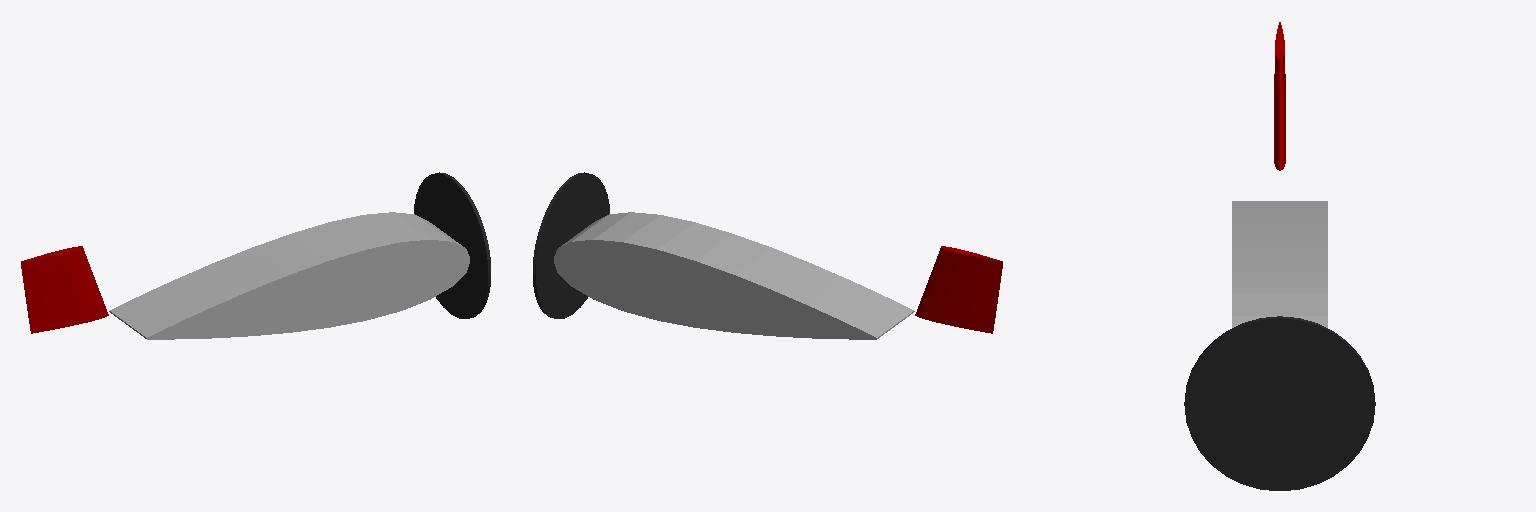
The robot description file, URDF, robot "drone_param":
<?xml version='1.0' encoding='utf-8'?>
<robot name="drone_param">
  <material name="grey">
    <color rgba="0.7 0.7 0.7 1" />
    </material>
  <material name="red">
    <color rgba="0.7 0 0 1" />
    </material>
  <material name="black">
    <color rgba="0.2 0.2 0.2 1" />
    </material>
  <link name="root_link">
    <inertial>
      <origin xyz="0 0 0" rpy="0 0 0" />
      <mass value="0" />
      <inertia ixx="0" ixy="0" ixz="0" iyy="0" iyz="0" izz="0" />
      </inertial>
    </link>
  <link name="fuselage">
    <inertial>
      <origin xyz="-0.25 0 -0.04" rpy="0 0 0" />
      <mass value="0.404768" />
      <inertia ixx="0.0014921" ixy="0" ixz="0" iyy="0.00167448" iyz="0" izz="0.000422383" />
      </inertial>
    <collision name="fuselage_collision_0">
      <origin xyz="-0.25 0 0.00245565348607" rpy="-1.5898372930676048 6.123233995736766e-17 -1.5707963267948968" />
      <geometry>
        <box size="0.025 0.0261920094864 0.125" />
        </geometry>
      </collision>
    <visual name="fuselage_visual_0">
      <origin xyz="0 0 0" rpy="0 0 0" />
      <geometry>
        <mesh filename="package://meshes/fuselage_only.stl" scale="0.000666768 0.001 0.001" />
        </geometry>
      <material name="grey" />
      </visual>
    </link>
  <joint name="fixed_joint_base_fuselage" type="fixed">
    <parent link="root_link" />
    <child link="fuselage" />
    <origin xyz="0 0 0" rpy="3.141592653589793 0 0" />
    </joint>
  <joint name="fixed_joint_aero_frame_fuselage" type="fixed">
    <parent link="fuselage" />
    <child link="aero_frame_fuselage" />
    <origin xyz="-0.25 0 -0.03" rpy="0 3.141592653589793 0" />
    </joint>
  <link name="aero_frame_fuselage">
    <inertial>
      <origin xyz="0 0 0" rpy="0 0 0" />
      <mass value="0" />
      <inertia ixx="0" ixy="0" ixz="0" iyy="0" iyz="0" izz="0" />
      </inertial>
    </link>
  <joint name="fixed_joint_prop_frame_fuselage_0" type="fixed">
    <parent link="fuselage" />
    <child link="prop_frame_fuselage_0" />
    <origin xyz="0 0 0" rpy="3.141592653589793 -1.5707963267948966 0" />
    </joint>
  <link name="prop_frame_fuselage_0">
    <inertial>
      <origin xyz="0 0 0" rpy="0 0 0" />
      <mass value="0.0314159" />
      <inertia ixx="6.28711e-05" ixy="0" ixz="0" iyy="6.28711e-05" iyz="0" izz="0.000125664" />
      </inertial>
    <visual name="prop_frame_fuselage_0_visual_0">
      <origin xyz="0 0 0" rpy="0 0 0" />
      <geometry>
        <cylinder radius="0.1" length="0.005" />
        </geometry>
      <material name="black" />
      </visual>
    <collision name="prop_frame_collision">
      <origin xyz="0 0 0" rpy="0 0 0" />
      <geometry>
        <box size="0.2 0.2 0.02" />
        </geometry>
      </collision>
    </link>
  <joint name="fixed_joint_right_wing" type="fixed">
    <parent link="fuselage" />
    <child link="fuselage_right_0" />
    <origin xyz="-0.15 0.05 -0.03" rpy="0.174532925199 0 3.141592653589793" />
    </joint>
  <link name="fuselage_right_0">
    <inertial>
      <origin xyz="0 0 0" rpy="0 0 0" />
      <mass value="0.1" />
      <inertia ixx="3.22642e-06" ixy="0" ixz="0" iyy="3.22642e-06" iyz="0" izz="3.22642e-06" />
      </inertial>
    </link>
  <link name="fuselage_right_1">
    <inertial>
      <origin xyz="0 0 0" rpy="0 0 0" />
      <mass value="0.1" />
      <inertia ixx="3.22642e-06" ixy="0" ixz="0" iyy="3.22642e-06" iyz="0" izz="3.22642e-06" />
      </inertial>
    </link>
  <joint name="joint_0_sweep_right_wing" type="revolute">
    <parent link="fuselage_right_0" />
    <child link="fuselage_right_1" />
    <origin xyz="0 0 0" rpy="0 0 0" />
    <axis xyz="0 0 1" />
    <limit lower="-0.35" upper="0.35" effort="2.4" velocity="3.665191429" />
    <dynamics damping="0.2" friction="0.05" />
    </joint>
  <joint name="joint_1_twist_right_wing" type="revolute">
    <parent link="fuselage_right_1" />
    <child link="right_wing" />
    <origin xyz="0 -0.05 0" rpy="0 0 0" />
    <axis xyz="0 1 0" />
    <limit lower="-0.466667" upper="0.466667" effort="0.9" velocity="3.665191429" />
    <dynamics damping="0.2" friction="0.05" />
    </joint>
  <link name="right_wing">
    <inertial>
      <origin xyz="0 0 0" rpy="0 0 0" />
      <mass value="0" />
      <inertia ixx="0" ixy="0" ixz="0" iyy="0" iyz="0" izz="0" />
      </inertial>
    <visual name="right_wing_visual">
      <origin xyz="0 0 0" rpy="0 0 0" />
      <geometry>
        <mesh filename="package://meshes/wing0009.stl" scale="0.2 0.875052 0.2" />
        </geometry>
      <material name="red" />
      </visual>
    </link>
  <joint name="fixed_joint_right_wing_prop" type="fixed">
    <parent link="right_wing" />
    <child link="right_wing_prop" />
    <origin xyz="0 -0.025 0" rpy="0 0 0" />
    </joint>
  <link name="right_wing_prop">
    <inertial>
      <origin xyz="0.0425 0 0" rpy="0 0 0" />
      <mass value="0.00449056" />
      <inertia ixx="1.45943e-05" ixy="0" ixz="0" iyy="6.33762e-07" iyz="0" izz="1.41054e-05" />
      </inertial>
    <collision name="right_wing_prop_collision">
      <origin xyz="0.0625 0 -0.000421042" rpy="1.570796327 -1.558922022 0" />
      <geometry>
        <box size="0.017962225 0.25 0.05" />
        </geometry>
      </collision>
    </link>
  <joint name="fixed_joint_aero_frame_right_wing_prop" type="fixed">
    <parent link="right_wing_prop" />
    <child link="aero_frame_right_wing_prop" />
    <origin xyz="0.0425 0 0" rpy="3.141592654 0 0" />
    </joint>
  <link name="aero_frame_right_wing_prop">
    <inertial>
      <origin xyz="0 0 0" rpy="0 0 0" />
      <mass value="0" />
      <inertia ixx="0" ixy="0" ixz="0" iyy="0" iyz="0" izz="0" />
      </inertial>
    </link>
  <joint name="fixed_joint_right_wing_free" type="fixed">
    <parent link="right_wing" />
    <child link="right_wing_free" />
    <origin xyz="0 -0.275 0" rpy="0 0 0" />
    </joint>
  <link name="right_wing_free">
    <inertial>
      <origin xyz="0.0425 0 0" rpy="0 0 0" />
      <mass value="0.040415" />
      <inertia ixx="0.000535499" ixy="0" ixz="0" iyy="0.000409854" iyz="0" izz="0.000126949" />
      </inertial>
    <collision name="right_wing_free_collision">
      <origin xyz="0.0625 0 -0.000421042" rpy="1.570796327 -1.558922022 0" />
      <geometry>
        <box size="0.017962225 0.25 0.45" />
        </geometry>
      </collision>
    </link>
  <joint name="fixed_joint_aero_frame_right_wing_free" type="fixed">
    <parent link="right_wing_free" />
    <child link="aero_frame_right_wing_free" />
    <origin xyz="0.0425 0 0" rpy="3.141592654 0 0" />
    </joint>
  <link name="aero_frame_right_wing_free">
    <inertial>
      <origin xyz="0 0 0" rpy="0 0 0" />
      <mass value="0" />
      <inertia ixx="0" ixy="0" ixz="0" iyy="0" iyz="0" izz="0" />
      </inertial>
    </link>
  <joint name="fixed_joint_left_wing" type="fixed">
    <parent link="fuselage" />
    <child link="fuselage_left_0" />
    <origin xyz="-0.15 -0.05 -0.03" rpy="-0.174532925199 0 3.141592653589793" />
    </joint>
  <link name="fuselage_left_0">
    <inertial>
      <origin xyz="0 0 0" rpy="0 0 0" />
      <mass value="0.1" />
      <inertia ixx="3.22642e-06" ixy="0" ixz="0" iyy="3.22642e-06" iyz="0" izz="3.22642e-06" />
      </inertial>
    </link>
  <link name="fuselage_left_1">
    <inertial>
      <origin xyz="0 0 0" rpy="0 0 0" />
      <mass value="0.1" />
      <inertia ixx="3.22642e-06" ixy="0" ixz="0" iyy="3.22642e-06" iyz="0" izz="3.22642e-06" />
      </inertial>
    </link>
  <joint name="joint_0_sweep_left_wing" type="revolute">
    <parent link="fuselage_left_0" />
    <child link="fuselage_left_1" />
    <origin xyz="0 0 0" rpy="0 0 0" />
    <axis xyz="0 0 1" />
    <limit lower="-0.35" upper="0.35" effort="2.4" velocity="3.665191429" />
    <dynamics damping="0.2" friction="0.05" />
    </joint>
  <joint name="joint_1_twist_left_wing" type="revolute">
    <parent link="fuselage_left_1" />
    <child link="left_wing" />
    <origin xyz="0 0.05 0" rpy="0 0 0" />
    <axis xyz="0 1 0" />
    <limit lower="-0.466667" upper="0.466667" effort="0.9" velocity="3.665191429" />
    <dynamics damping="0.2" friction="0.05" />
    </joint>
  <link name="left_wing">
    <inertial>
      <origin xyz="0 0 0" rpy="0 0 0" />
      <mass value="0" />
      <inertia ixx="0" ixy="0" ixz="0" iyy="0" iyz="0" izz="0" />
      </inertial>
    <visual name="left_wing_visual">
      <origin xyz="0 0 0" rpy="3.141592654 0 0" />
      <geometry>
        <mesh filename="package://meshes/wing0009.stl" scale="0.2 0.875052 0.2" />
        </geometry>
      <material name="red" />
      </visual>
    </link>
  <joint name="fixed_joint_left_wing_prop" type="fixed">
    <parent link="left_wing" />
    <child link="left_wing_prop" />
    <origin xyz="0 0.025 0" rpy="0 0 0" />
    </joint>
  <link name="left_wing_prop">
    <inertial>
      <origin xyz="0.0425 0 0" rpy="0 0 0" />
      <mass value="0.00449056" />
      <inertia ixx="1.45943e-05" ixy="0" ixz="0" iyy="6.33762e-07" iyz="0" izz="1.41054e-05" />
      </inertial>
    <collision name="left_wing_prop_collision">
      <origin xyz="0.0625 0 -0.000421042" rpy="1.570796327 -1.558922022 0" />
      <geometry>
        <box size="0.017962225 0.25 0.05" />
        </geometry>
      </collision>
    </link>
  <joint name="fixed_joint_aero_frame_left_wing_prop" type="fixed">
    <parent link="left_wing_prop" />
    <child link="aero_frame_left_wing_prop" />
    <origin xyz="0.0425 0 0" rpy="3.141592654 0 0" />
    </joint>
  <link name="aero_frame_left_wing_prop">
    <inertial>
      <origin xyz="0 0 0" rpy="0 0 0" />
      <mass value="0" />
      <inertia ixx="0" ixy="0" ixz="0" iyy="0" iyz="0" izz="0" />
      </inertial>
    </link>
  <joint name="fixed_joint_left_wing_free" type="fixed">
    <parent link="left_wing" />
    <child link="left_wing_free" />
    <origin xyz="0 0.275 0" rpy="0 0 0" />
    </joint>
  <link name="left_wing_free">
    <inertial>
      <origin xyz="0.0425 0 0" rpy="0 0 0" />
      <mass value="0.040415" />
      <inertia ixx="0.000535499" ixy="0" ixz="0" iyy="0.000409854" iyz="0" izz="0.000126949" />
      </inertial>
    <collision name="left_wing_free_collision">
      <origin xyz="0.0625 0 -0.000421042" rpy="1.570796327 -1.558922022 0" />
      <geometry>
        <box size="0.017962225 0.25 0.45" />
        </geometry>
      </collision>
    </link>
  <joint name="fixed_joint_aero_frame_left_wing_free" type="fixed">
    <parent link="left_wing_free" />
    <child link="aero_frame_left_wing_free" />
    <origin xyz="0.0425 0 0" rpy="3.141592654 0 0" />
    </joint>
  <link name="aero_frame_left_wing_free">
    <inertial>
      <origin xyz="0 0 0" rpy="0 0 0" />
      <mass value="0" />
      <inertia ixx="0" ixy="0" ixz="0" iyy="0" iyz="0" izz="0" />
      </inertial>
    </link>
  <joint name="elevator_pitch_joint" type="revolute">
    <parent link="fuselage" />
    <child link="elevator_hinge" />
    <origin xyz="-0.53 0 0" rpy="0 0 0" />
    <axis xyz="0 1 0" />
    <limit lower="-0.35" upper="0.35" effort="1.0" velocity="3.665191429" />
    <dynamics damping="0.2" friction="0.05" />
    </joint>
  <link name="elevator_hinge">
    <inertial>
      <origin xyz="0 0 0" rpy="0 0 0" />
      <mass value="0" />
      <inertia ixx="0" ixy="0" ixz="0" iyy="0" iyz="0" izz="0" />
      </inertial>
    <visual>
      <origin xyz="0 0 0" rpy="0 0 0" />
      <geometry>
        <mesh filename="package://meshes/elevator.stl" scale="0.0007 0.000686002 0.00055555" />
        </geometry>
      <material name="grey" />
      </visual>
    </link>
  <joint name="fixed_joint_elevator_left" type="fixed">
    <parent link="elevator_hinge" />
    <child link="elevator_left" />
    <origin xyz="0 0.05 0" rpy="0 0 0" />
    </joint>
  <link name="elevator_left">
    <inertial>
      <origin xyz="0.0248 0 0" rpy="0 0 0" />
      <mass value="0.00108454" />
      <inertia ixx="4.82621e-07" ixy="0" ixz="0" iyy="1.45534e-07" iyz="0" izz="3.57019e-07" />
      </inertial>
    <collision>
      <origin xyz="-0.02 0 -0.0226291863" rpy="1.5763749568 -1.5318707859 3.1359944429" />
      <geometry>
        <box size="0.0135567616 0.08 0.05" />
        </geometry>
      </collision>
    </link>
  <joint name="fixed_joint_aero_frame_elevator_left" type="fixed">
    <parent link="elevator_left" />
    <child link="aero_frame_elevator_left" />
    <origin xyz="-0.0248 0 0" rpy="0 3.141592654 0" />
    </joint>
  <link name="aero_frame_elevator_left">
    <inertial>
      <origin xyz="0 0 0" rpy="0 0 0" />
      <mass value="0" />
      <inertia ixx="0" ixy="0" ixz="0" iyy="0" iyz="0" izz="0" />
      </inertial>
    </link>
  <joint name="fixed_joint_elevator_right" type="fixed">
    <parent link="elevator_hinge" />
    <child link="elevator_right" />
    <origin xyz="0 -0.05 0" rpy="0 0 0" />
    </joint>
  <link name="elevator_right">
    <inertial>
      <origin xyz="0.0248 0 0" rpy="0 0 0" />
      <mass value="0.00108454" />
      <inertia ixx="4.82621e-07" ixy="0" ixz="0" iyy="1.45534e-07" iyz="0" izz="3.57019e-07" />
      </inertial>
    <collision>
      <origin xyz="-0.02 0 -0.0226291863" rpy="1.5763749568 -1.5318707859 3.1359944429" />
      <geometry>
        <box size="0.0135567616 0.08 0.05" />
        </geometry>
      </collision>
    </link>
  <joint name="fixed_joint_aero_frame_elevator_right" type="fixed">
    <parent link="elevator_right" />
    <child link="aero_frame_elevator_right" />
    <origin xyz="-0.0248 0 0" rpy="0 3.141592654 0" />
    </joint>
  <link name="aero_frame_elevator_right">
    <inertial>
      <origin xyz="0 0 0" rpy="0 0 0" />
      <mass value="0" />
      <inertia ixx="0" ixy="0" ixz="0" iyy="0" iyz="0" izz="0" />
      </inertial>
    </link>
  <joint name="rudder_yaw_joint" type="revolute">
    <parent link="elevator_hinge" />
    <child link="rudder" />
    <origin xyz="0 0 0" rpy="0 0 0" />
    <axis xyz="0 0 1" />
    <limit lower="-0.35" upper="0.35" effort="1.0" velocity="3.665191429" />
    <dynamics damping="0.2" friction="0.05" />
    </joint>
  <link name="rudder">
    <inertial>
      <origin xyz="-0.0372 0 -0.08" rpy="0 0 0" />
      <mass value="0.00390435" />
      <inertia ixx="5.62226e-06" ixy="0" ixz="0" iyy="2.84701e-06" iyz="0" izz="2.84701e-06" />
      </inertial>
    <collision name="rudder_collision_0">
      <origin xyz="-0.03 0 -0.104994470816" rpy="0.10626955814138643 0.008780081131392076 1.5717328981686811" />
      <geometry>
        <box size="0.0135567616 0.12 0.12" />
        </geometry>
      </collision>
    <visual name="rudder_visual_0">
      <origin xyz="0 0 0" rpy="0 0 0" />
      <geometry>
        <mesh filename="package://meshes/rudder.stl" scale="0.0008 0.00100567 0.000733616" />
        </geometry>
      <material name="red" />
      </visual>
    </link>
  <joint name="fixed_joint_aero_frame_rudder" type="fixed">
    <parent link="rudder" />
    <child link="aero_frame_rudder" />
    <origin xyz="-0.0372 0 -0.08" rpy="0 3.141592653589793 0" />
    </joint>
  <link name="aero_frame_rudder">
    <inertial>
      <origin xyz="0 0 0" rpy="0 0 0" />
      <mass value="0" />
      <inertia ixx="0" ixy="0" ixz="0" iyy="0" iyz="0" izz="0" />
      </inertial>
    </link>
  <metadata type="genes" order="wing_span wing_chord wing_attach_x fus_cg_x fus_length elevator_span elevator_chord rudder_span rudder_chord density_scale dihedral_deg prop_radius hinge_le_ratio sweep_multi twist_multi cl_alpha_2d alpha0_2d" value="0.5 0.25 -0.15 -0.25 0.5 0.1 0.08 0.12 0.12 1 10 0.1 0.14 2 1.5 2.5 0" />
  <!--genes wing_span wing_chord wing_attach_x fus_cg_x fus_length elevator_span elevator_chord rudder_span rudder_chord density_scale dihedral_deg prop_radius hinge_le_ratio sweep_multi twist_multi cl_alpha_2d alpha0_2d = 0.5 0.25 -0.15 -0.25 0.5 0.1 0.08 0.12 0.12 1 10 0.1 0.14 2 1.5 2.5 0-->
  </robot>

--- Render facts (derived) ---
3 views of the same robot in one strip: view 1: azimuth 30°, elevation 25°; view 2: azimuth 150°, elevation 25°; view 3: azimuth 270°, elevation 25° (orthographic).
Robot: drone_param — 25 links, 24 joints (6 revolute, 18 fixed); root link root_link; default pose: all joints at 0.
Links seen in each view (by area): view 1: fuselage, prop_frame_fuselage_0, rudder; view 2: fuselage, prop_frame_fuselage_0, rudder; view 3: prop_frame_fuselage_0, fuselage, rudder.
Link boxes in pixels (<box>): fuselage: <box>109,212,469,339</box>; prop_frame_fuselage_0: <box>414,172,490,318</box>; rudder: <box>21,246,108,333</box>; fuselage: <box>554,212,914,339</box>; prop_frame_fuselage_0: <box>533,172,609,318</box>; rudder: <box>915,246,1002,333</box>; prop_frame_fuselage_0: <box>1184,316,1375,490</box>; fuselage: <box>1232,201,1327,327</box>; rudder: <box>1274,22,1285,170</box>.
Size in the robot's own frame: 0.6685 by 0.2 by 0.2321 metres.
2 mesh visuals loaded from 4 distinct referenced files (2 binary STL); not drawn: 3 (reference not matched to a file when rendering).